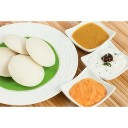idly: (8, 55, 43, 84), (27, 34, 57, 66), (2, 35, 30, 54), (1, 47, 17, 78)
